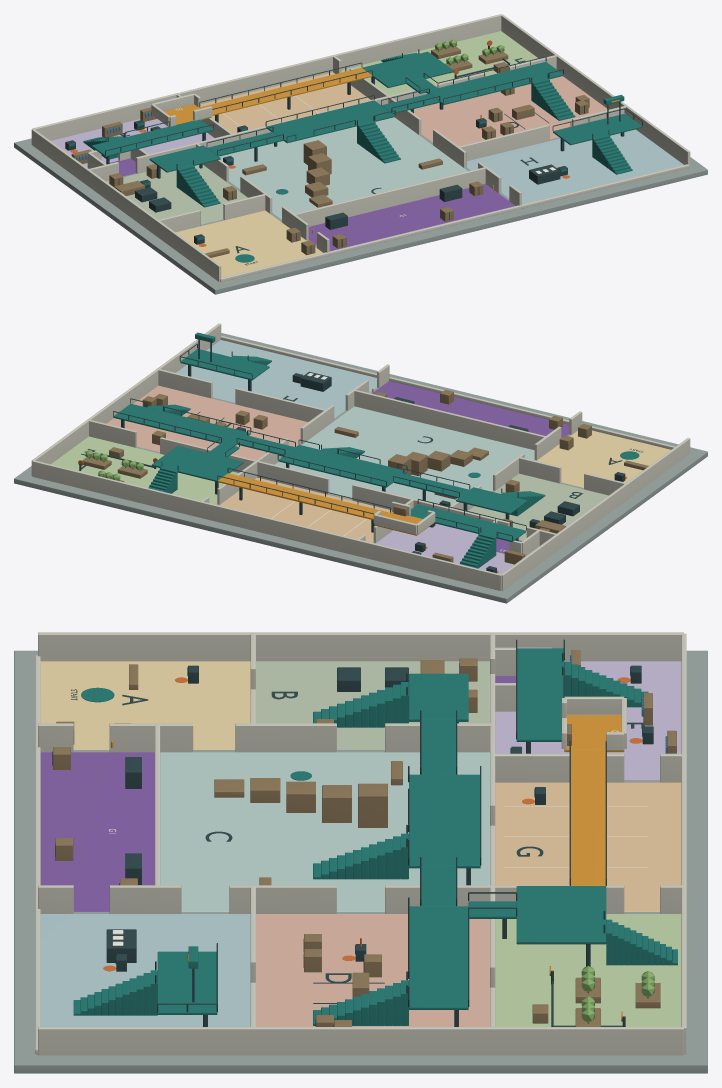
File: courtyard.glb
3 renders of one model, top to bottom at view 1: azimuth 30°, elevation 25°; view 2: azimuth 150°, elevation 25°; view 3: azimuth 270°, elevation 25°, orthographic. The views are drawn at different scales.
Parts seen in each view (by area): view 1: C Zentrale Halle, ONE continuous ground plate, Room wall.021, H Generatorraum, D Lagerhalle, G1 maintenance passage, A Eingang, G Übungsraum, Room wall.005, Room wall.020, Room wall.014, B Werkhalle (+22 smaller); view 2: ONE continuous ground plate, C Zentrale Halle, Room wall.021, H Generatorraum, D Lagerhalle, A Eingang, G Übungsraum, Room wall.005, Room wall.014, E Gewächshaus, G1 maintenance passage, Room wall.020 (+25 smaller); view 3: ONE continuous ground plate, C Zentrale Halle, Room wall.020, Room wall.005, H Generatorraum, G Übungsraum, D Lagerhalle, G1 maintenance passage, A Eingang, E Gewächshaus, B Werkhalle, F Archiv (+32 smaller).
Part boxes in pixels (<box>): C Zentrale Halle: <box>219,117,467,219</box>; ONE continuous ground plate: <box>14,134,707,294</box>; Room wall.021: <box>32,14,501,140</box>; H Generatorraum: <box>466,129,683,204</box>; D Lagerhalle: <box>409,76,607,146</box>; G1 maintenance passage: <box>309,184,515,251</box>; A Eingang: <box>176,210,322,277</box>; G Übungsraum: <box>200,72,370,133</box>; Room wall.005: <box>31,129,221,281</box>; Room wall.020: <box>501,14,690,166</box>; Room wall.014: <box>294,167,485,226</box>; B Werkhalle: <box>106,165,247,224</box>; ONE continuous ground plate: <box>14,333,707,603</box>; C Zentrale Halle: <box>275,406,534,504</box>; Room wall.021: <box>32,460,501,590</box>; H Generatorraum: <box>176,340,376,417</box>; D Lagerhalle: <box>106,385,307,460</box>; A Eingang: <box>537,430,670,487</box>; G Übungsraum: <box>219,477,391,542</box>; Room wall.005: <box>501,438,690,590</box>; Room wall.014: <box>354,389,545,450</box>; E Gewächshaus: <box>51,436,238,504</box>; G1 maintenance passage: <box>372,381,569,437</box>; Room wall.020: <box>31,323,221,475</box>; ONE continuous ground plate: <box>14,650,707,1073</box>; C Zentrale Halle: <box>160,752,489,911</box>; Room wall.020: <box>38,1027,683,1055</box>; Room wall.005: <box>38,632,683,661</box>; H Generatorraum: <box>40,914,250,1026</box>; G Übungsraum: <box>495,782,681,911</box>; D Lagerhalle: <box>256,914,489,1026</box>; G1 maintenance passage: <box>40,752,154,911</box>; A Eingang: <box>40,661,250,750</box>; E Gewächshaus: <box>495,914,681,1026</box>; B Werkhalle: <box>256,661,489,750</box>; F Archiv: <box>495,661,681,780</box>.
Bounding box in the file's own units: 82 × 7.8 × 58.
